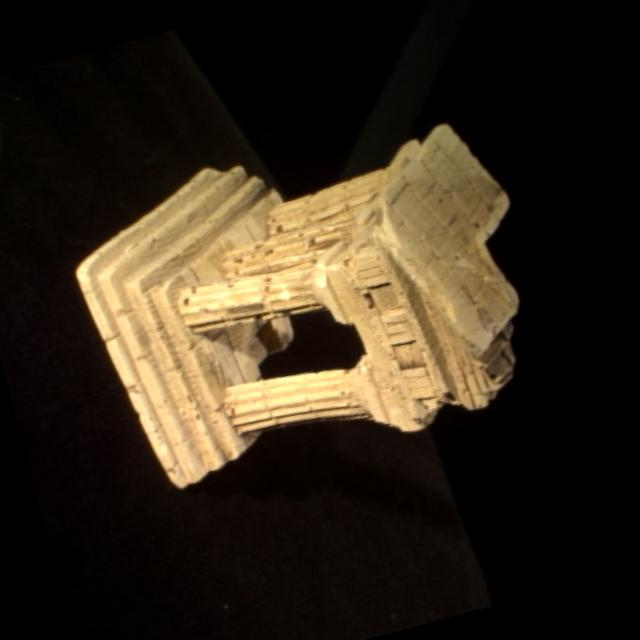Instance-Segmentation: (75, 124, 516, 485)
